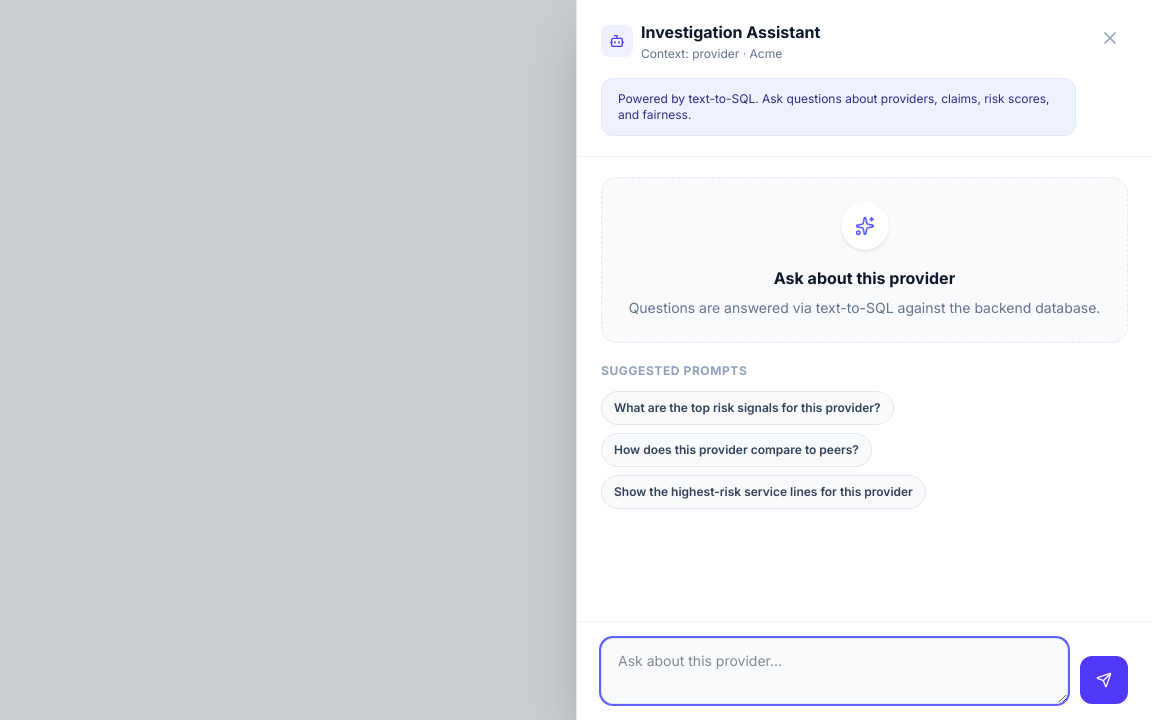
it: AssistantDrawer › sends a message and displays response
Type "What is the risk?" into the text box with placeholder "Ask about this provider..." at (834, 671), box [601,638,1068,704]
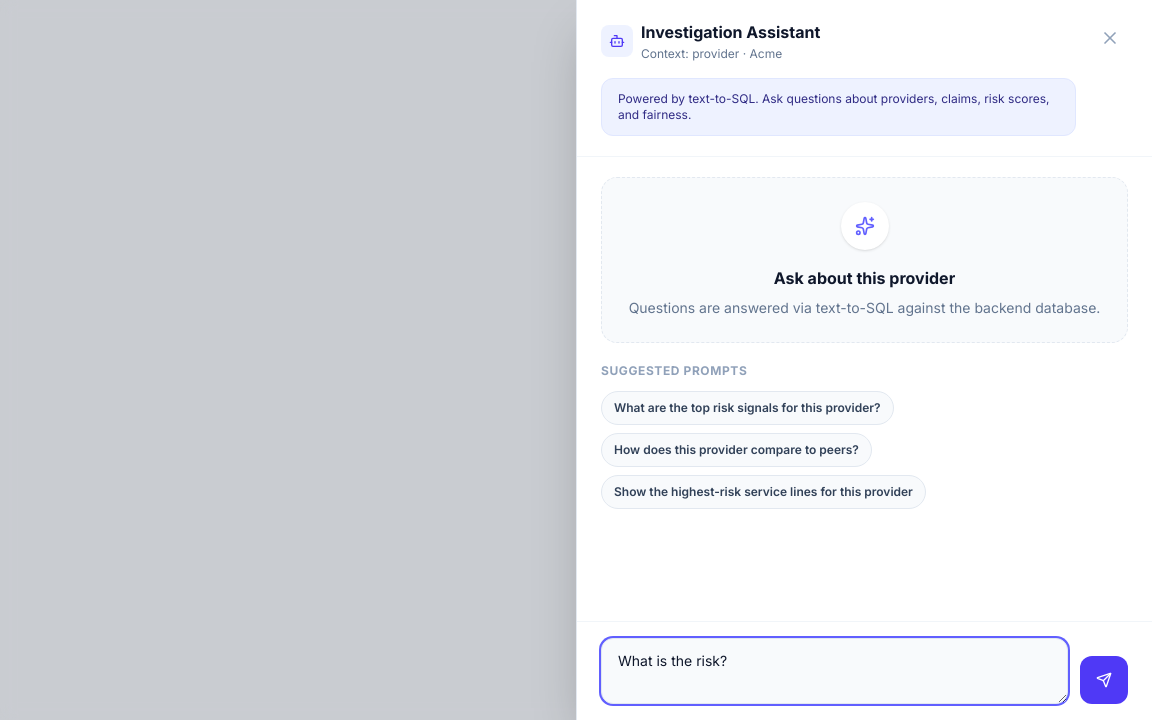
Press Enter
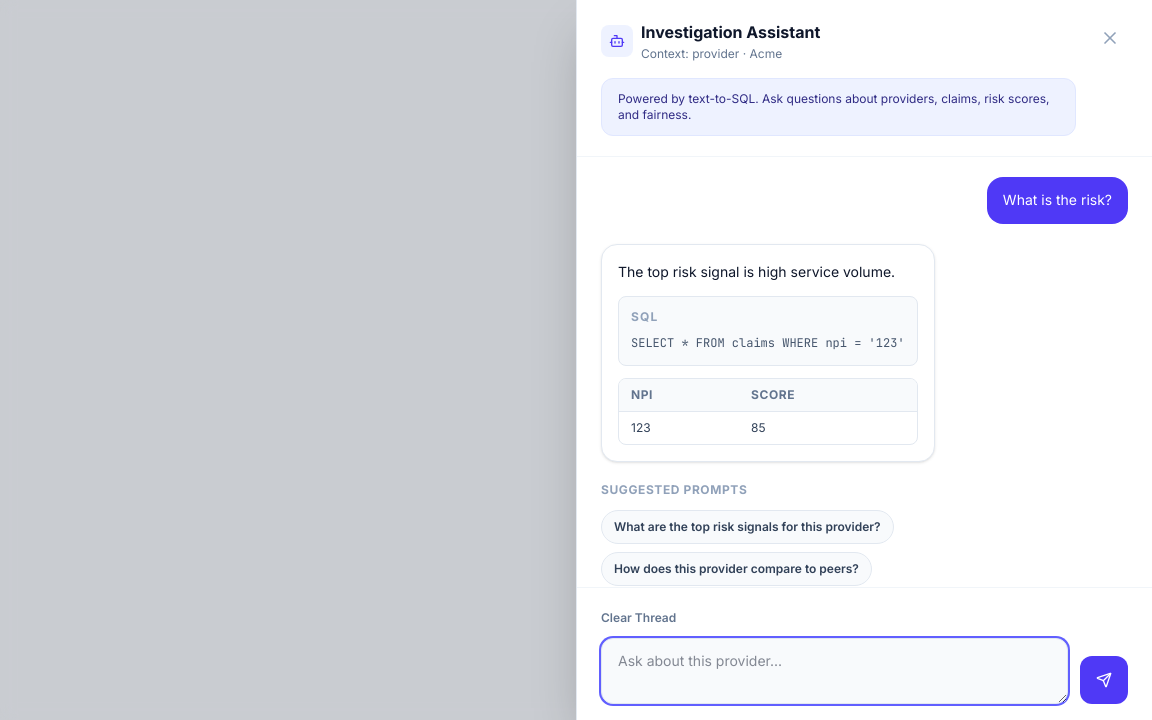
Expected: the text "The top risk signal is high service volume." is shown, [618,261,918,284]
